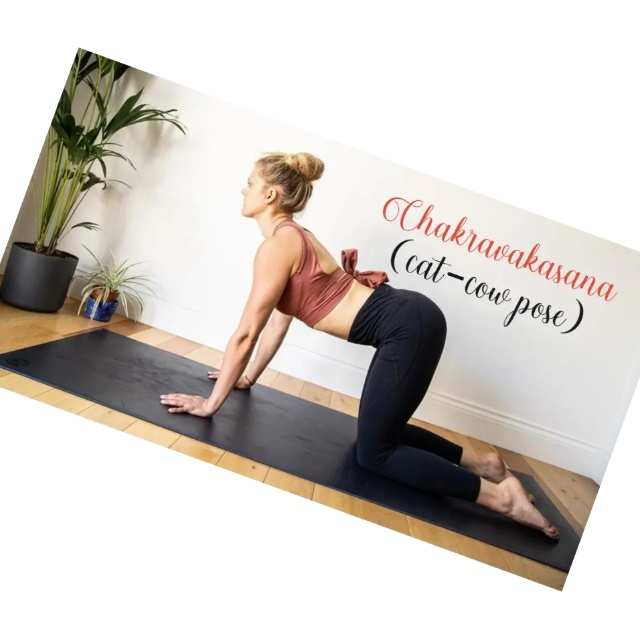Cow_Pose: (158, 154, 562, 538)
